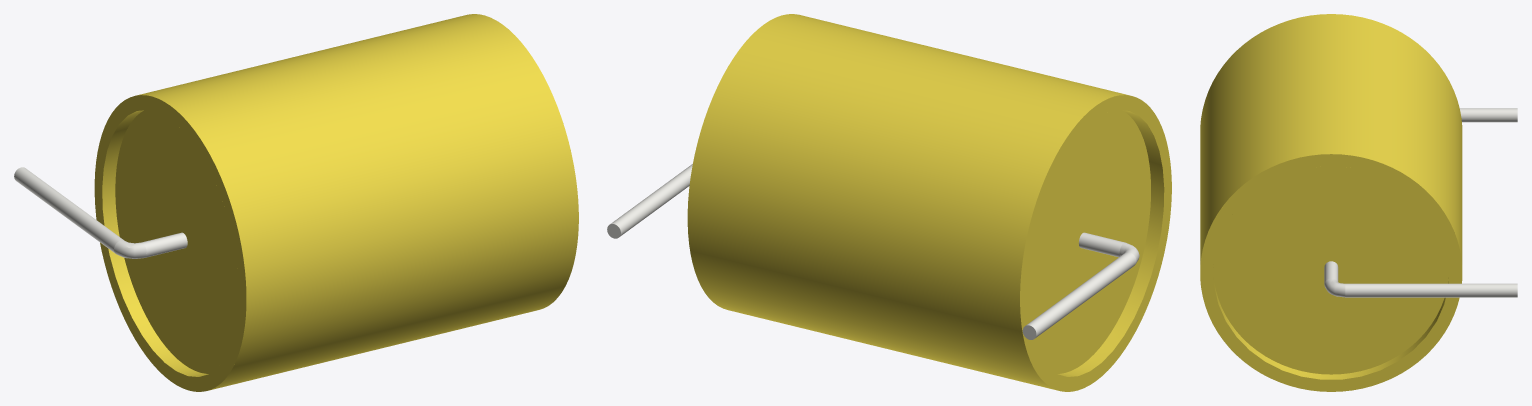
The model's file is C_Axial_L12.0mm_D9.5mm_P15.00mm_Horizontal.glb.
3 renders of one model, left to right at view 1: azimuth 30°, elevation 25°; view 2: azimuth 150°, elevation 25°; view 3: azimuth 270°, elevation 25°, orthographic. The views are drawn at different scales.
Parts seen in each view (by area): view 1: Shape_IndexedFaceSet, Shape_IndexedFaceSet.005, Shape_IndexedFaceSet.001, Shape_IndexedFaceSet.003, Shape_IndexedFaceSet.008, Shape_IndexedFaceSet.010, Shape_IndexedFaceSet.009; view 2: Shape_IndexedFaceSet, Shape_IndexedFaceSet.005, Shape_IndexedFaceSet.001, Shape_IndexedFaceSet.003, Shape_IndexedFaceSet.008, Shape_IndexedFaceSet.012, Shape_IndexedFaceSet.010; view 3: Shape_IndexedFaceSet, Shape_IndexedFaceSet.006, Shape_IndexedFaceSet.002, Shape_IndexedFaceSet.012, Shape_IndexedFaceSet.004, Shape_IndexedFaceSet.008, Shape_IndexedFaceSet.011.
Part boxes in pixels (x1,y1,x2,y2): Shape_IndexedFaceSet: (136,14,578,390); Shape_IndexedFaceSet.005: (115,110,238,373); Shape_IndexedFaceSet.001: (94,95,246,391); Shape_IndexedFaceSet.003: (102,110,208,376); Shape_IndexedFaceSet.008: (14,167,124,252); Shape_IndexedFaceSet.010: (141,232,187,257); Shape_IndexedFaceSet.009: (114,240,146,258); Shape_IndexedFaceSet: (687,14,1150,390); Shape_IndexedFaceSet.005: (1027,110,1150,373); Shape_IndexedFaceSet.001: (1020,95,1171,391); Shape_IndexedFaceSet.003: (1058,110,1164,376); Shape_IndexedFaceSet.008: (1026,252,1136,338); Shape_IndexedFaceSet.012: (611,164,692,236); Shape_IndexedFaceSet.010: (1078,232,1124,257); Shape_IndexedFaceSet: (1200,14,1462,264); Shape_IndexedFaceSet.006: (1213,166,1449,374); Shape_IndexedFaceSet.002: (1200,154,1462,391); Shape_IndexedFaceSet.012: (1345,283,1517,297); Shape_IndexedFaceSet.004: (1213,277,1448,379); Shape_IndexedFaceSet.008: (1459,108,1517,122); Shape_IndexedFaceSet.011: (1324,278,1345,297).
Bounding box in the file's own units: 6.1 × 3.74 × 4.53.
